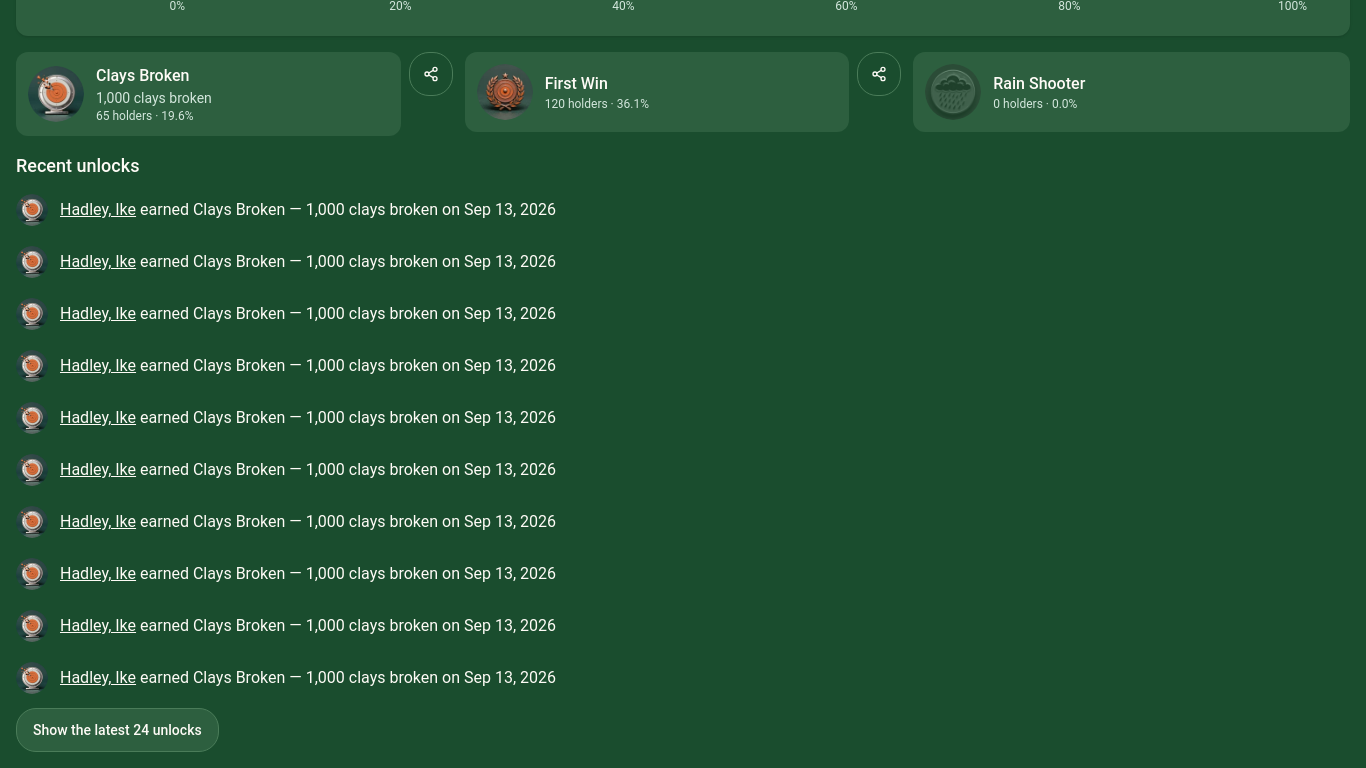
Scenario: TrophyRoomPage › offers the latest capped list, then says how many of the total it holds
(page scrolled)
Expected: the text "of 3,412" is not shown
Click the button "Show the latest 24 unlocks": (117, 730) [16,708,219,752]
(page scrolled)
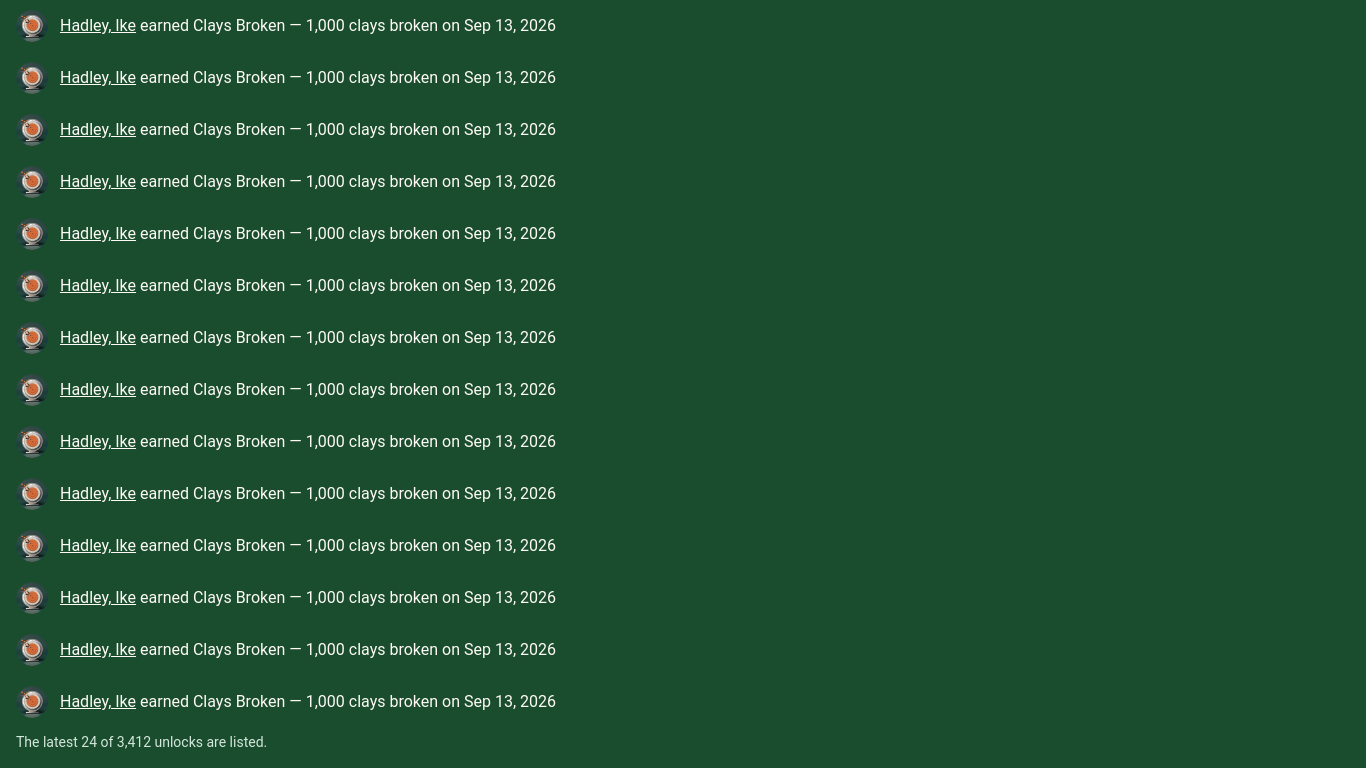
Now the text "The latest 24 of 3,412 unlocks are listed." is shown, box [16,734,267,750]
